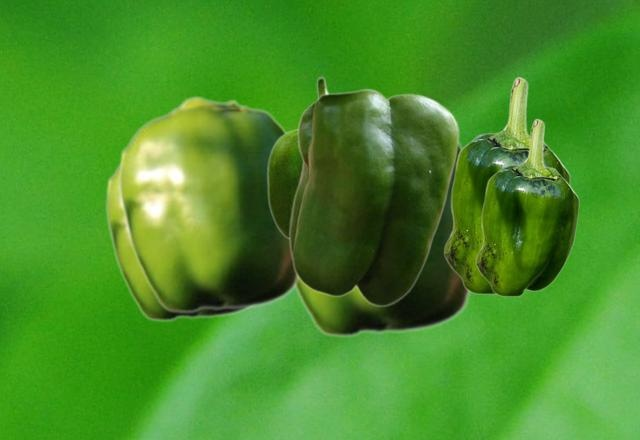bell_pepper: (118, 95, 300, 313), (295, 127, 473, 337), (288, 88, 459, 306), (443, 76, 569, 294), (105, 165, 249, 321), (475, 118, 578, 296), (266, 76, 328, 239)
